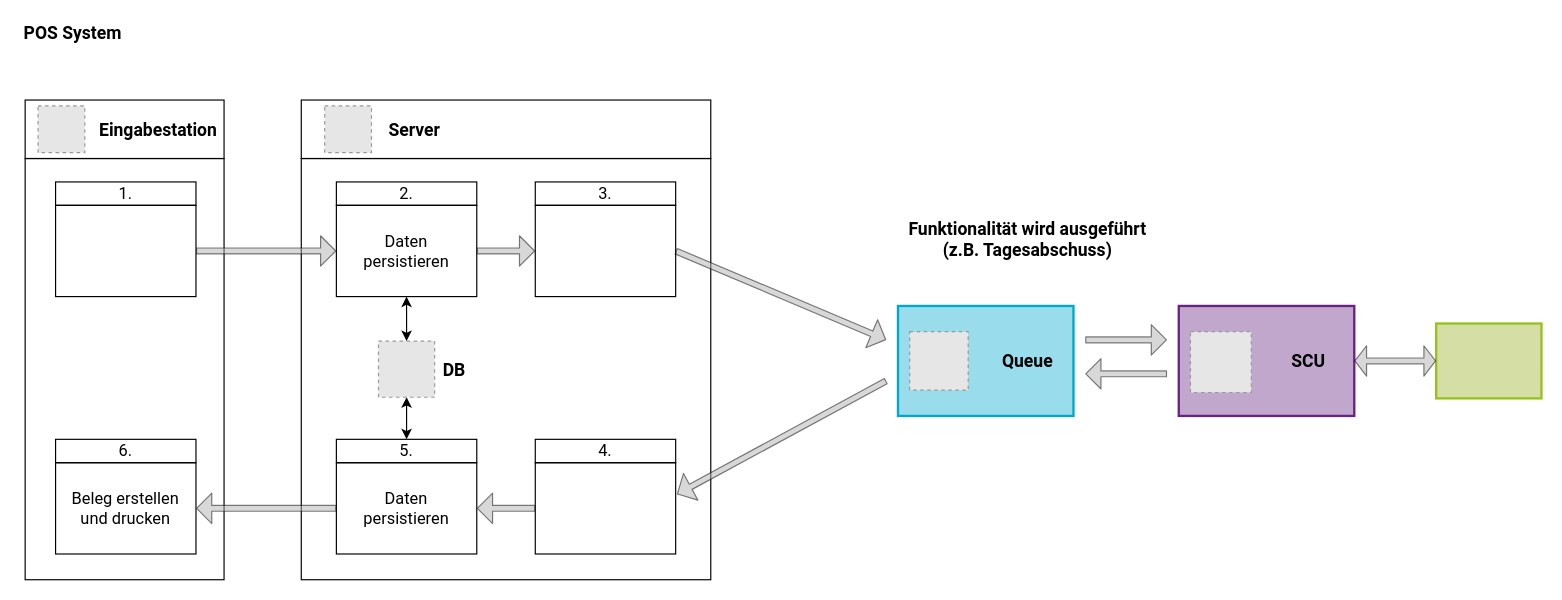
The diagram is 1562 pixels wide and 600 high, and some of its shapes have lost their labels. Grey dashed boxes stand in for pictures. Here are the shapes that lost their labels. From the top down, the box of each, then its label:
(54, 204, 196, 297): Funktionalität triggern
(534, 204, 676, 297): sign - Request senden (Sonderbeleg)
(1434, 322, 1542, 399): TSE
(534, 462, 676, 554): Response prozessieren
